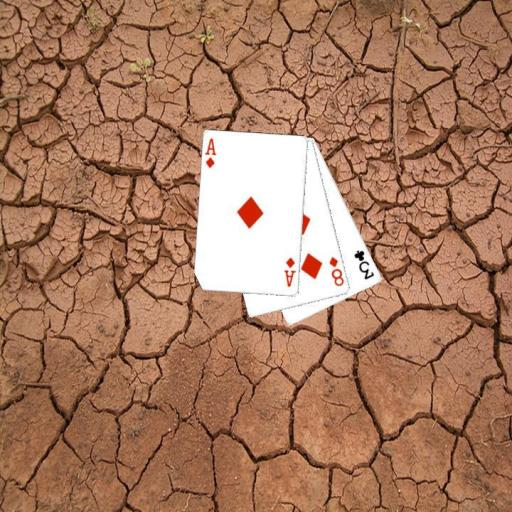3C: (351, 247, 376, 282)
8D: (327, 253, 346, 288)
AD: (281, 255, 297, 289), (203, 135, 218, 169)
